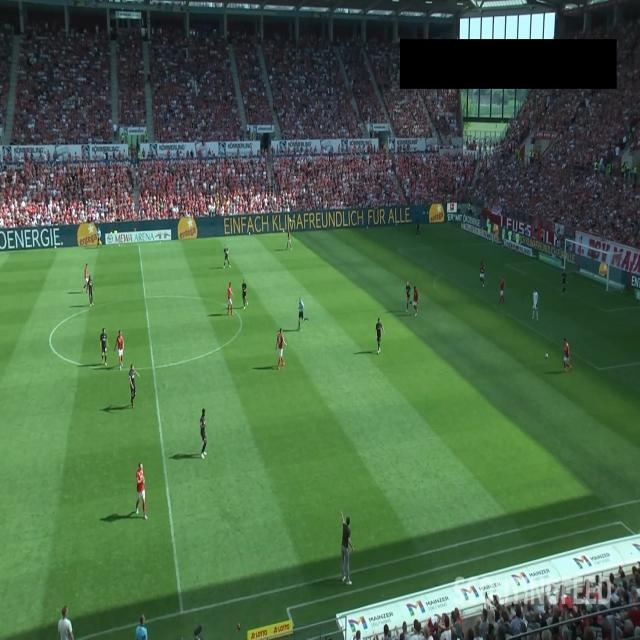ball: (544, 352, 549, 360)
